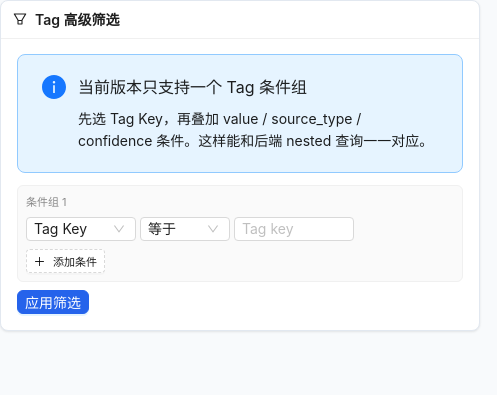
Test: TagAdvancedFilter › can remove condition after adding
Click the button "添加条件": (66, 261) [26,249,105,273]
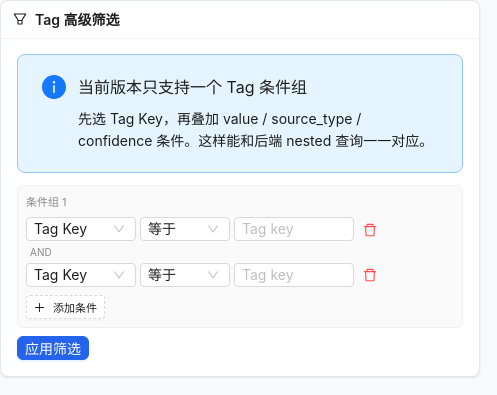
Click the 1st button: (370, 229) [358,217,382,241]
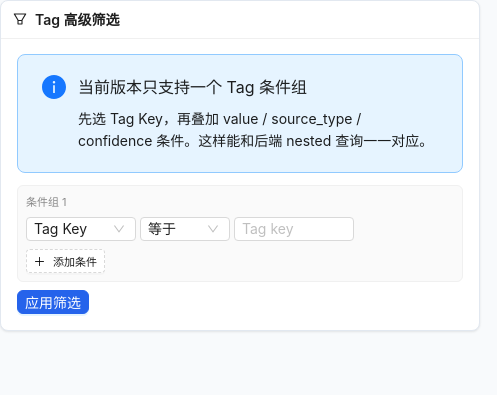
Result: the text "AND" is gone
